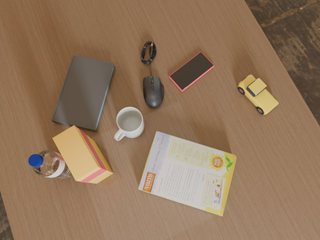book: (52, 55, 115, 132)
bottle: (29, 150, 72, 179)
box: (138, 131, 236, 216), (53, 126, 113, 183)
cup: (114, 107, 144, 140)
mouse: (143, 75, 164, 108)
phone: (169, 52, 214, 92)
toy_car: (238, 75, 278, 115)
